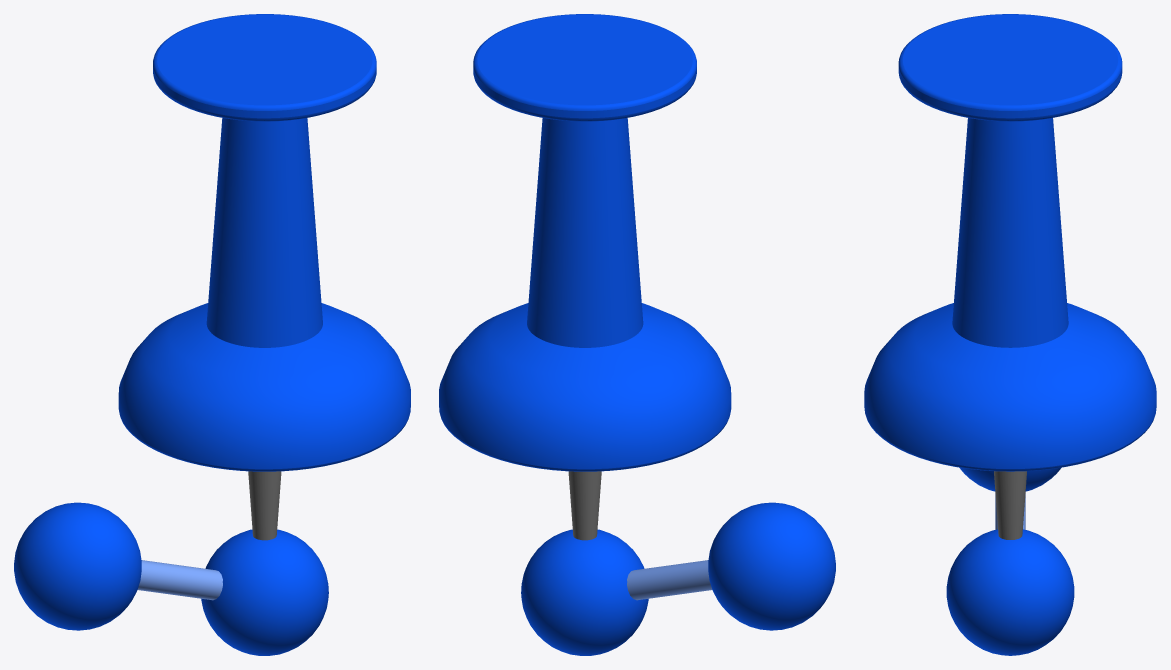
File: PinToTool.fbx
3 views of the same model, side by side, from view 1: azimuth 30°, elevation 25°; view 2: azimuth 150°, elevation 25°; view 3: azimuth 270°, elevation 25° (orthographic).
Parts seen in each view (by area): view 1: Base, Sphere_1, Sphere, Cylinder, Pin; view 2: Base, Sphere_1, Sphere, Cylinder, Pin; view 3: Base, Sphere, Pin, Sphere_1.
Boxes of the visible parts, box(x1,y1,x2,y2) form: Base: box(118, 14, 410, 471); Sphere_1: box(14, 502, 141, 630); Sphere: box(201, 529, 328, 655); Cylinder: box(137, 560, 222, 600); Pin: box(248, 471, 281, 540); Base: box(439, 14, 731, 471); Sphere_1: box(708, 502, 835, 630); Sphere: box(521, 529, 648, 655); Cylinder: box(627, 560, 712, 600); Pin: box(568, 471, 601, 540); Base: box(864, 14, 1156, 471); Sphere: box(946, 529, 1074, 655); Pin: box(994, 471, 1026, 539); Sphere_1: box(959, 467, 1061, 491).
Size of the model in its own units: 49.83 by 76.19 by 34.2.
